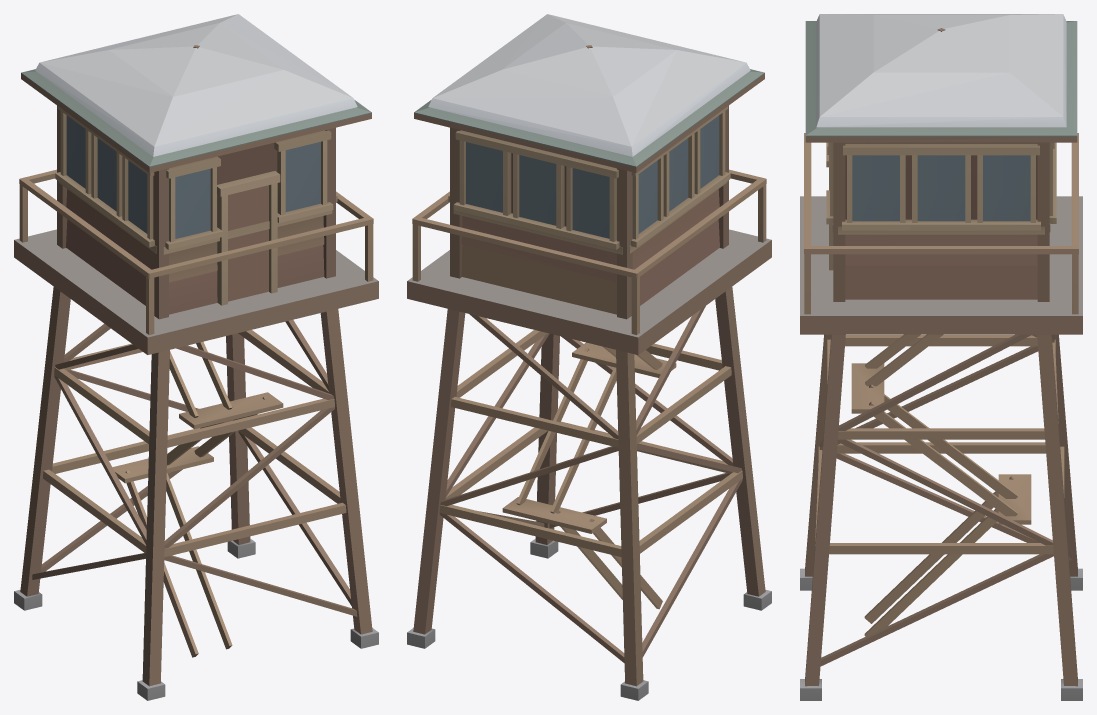
Rendered from lookout.lod1.glb.
3 views of the same model, side by side, from view 1: azimuth 30°, elevation 25°; view 2: azimuth 150°, elevation 25°; view 3: azimuth 270°, elevation 25° (orthographic). The views are drawn at different scales.
Size of the model in its own units: 5.2 by 12.42 by 5.2.
